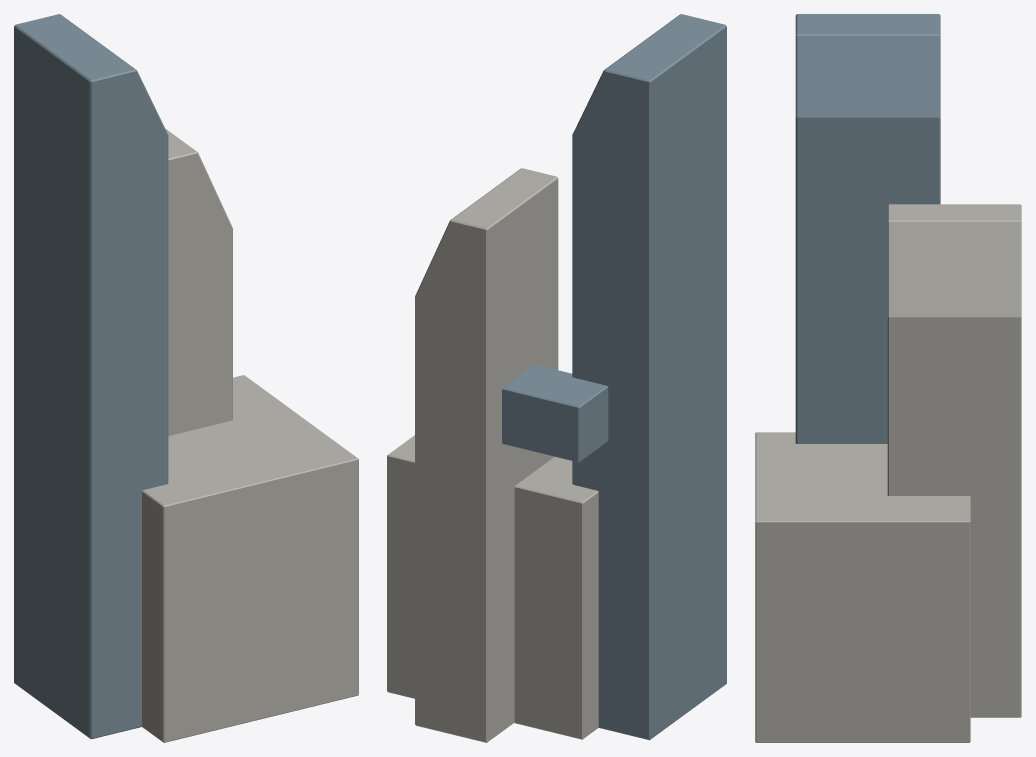
File: CityV7_SkylineHigh.fbx
The picture shows the model from 3 angles, left to right: view 1: azimuth 30°, elevation 25°; view 2: azimuth 150°, elevation 25°; view 3: azimuth 270°, elevation 25°; orthographic projection. The views are drawn at different scales.
Parts seen in each view (by area): view 1: CityV7_SkylineHigh__CityV7_BlueStone, CityV7_SkylineHigh__CityV7_Mineral; view 2: CityV7_SkylineHigh__CityV7_BlueStone, CityV7_SkylineHigh__CityV7_Mineral; view 3: CityV7_SkylineHigh__CityV7_Mineral, CityV7_SkylineHigh__CityV7_BlueStone.
Boxes of the visible parts, <box> form: CityV7_SkylineHigh__CityV7_BlueStone: <box>14,14,168,739</box>; CityV7_SkylineHigh__CityV7_Mineral: <box>142,129,358,742</box>; CityV7_SkylineHigh__CityV7_BlueStone: <box>502,14,726,740</box>; CityV7_SkylineHigh__CityV7_Mineral: <box>387,168,598,742</box>; CityV7_SkylineHigh__CityV7_Mineral: <box>755,204,1021,742</box>; CityV7_SkylineHigh__CityV7_BlueStone: <box>795,14,940,443</box>.
Bounding box in the file's own units: 10.6 × 27 × 10.57.
